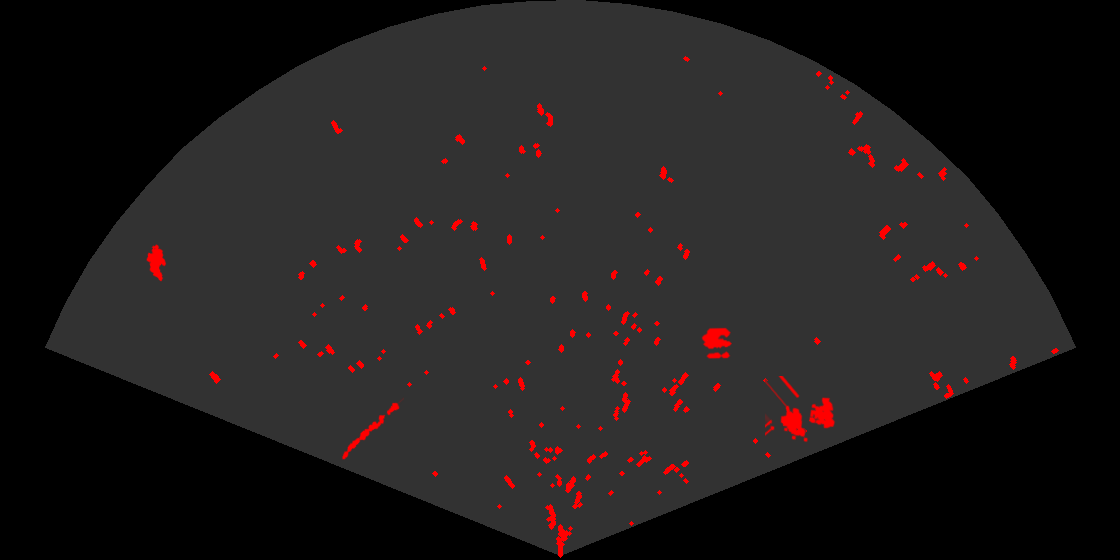AUV: (145, 243, 168, 283)
ball: (700, 326, 733, 360)
cage: (765, 376, 837, 444)
chain: (340, 396, 404, 461)
